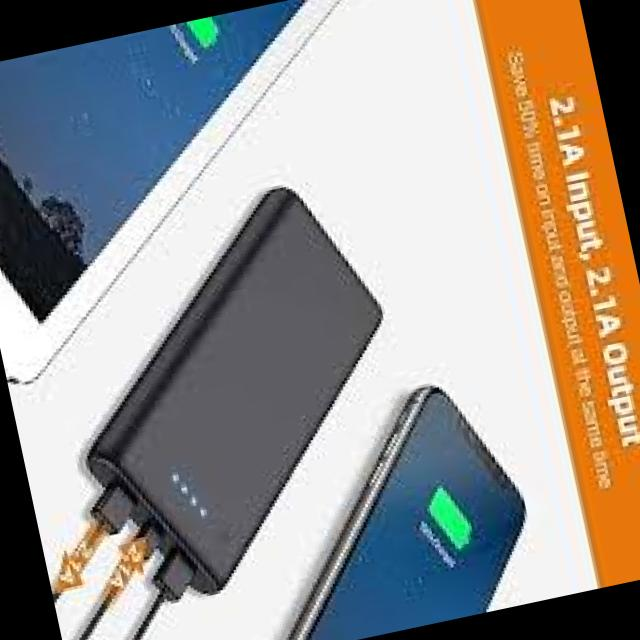power_bank: (35, 167, 436, 616)
